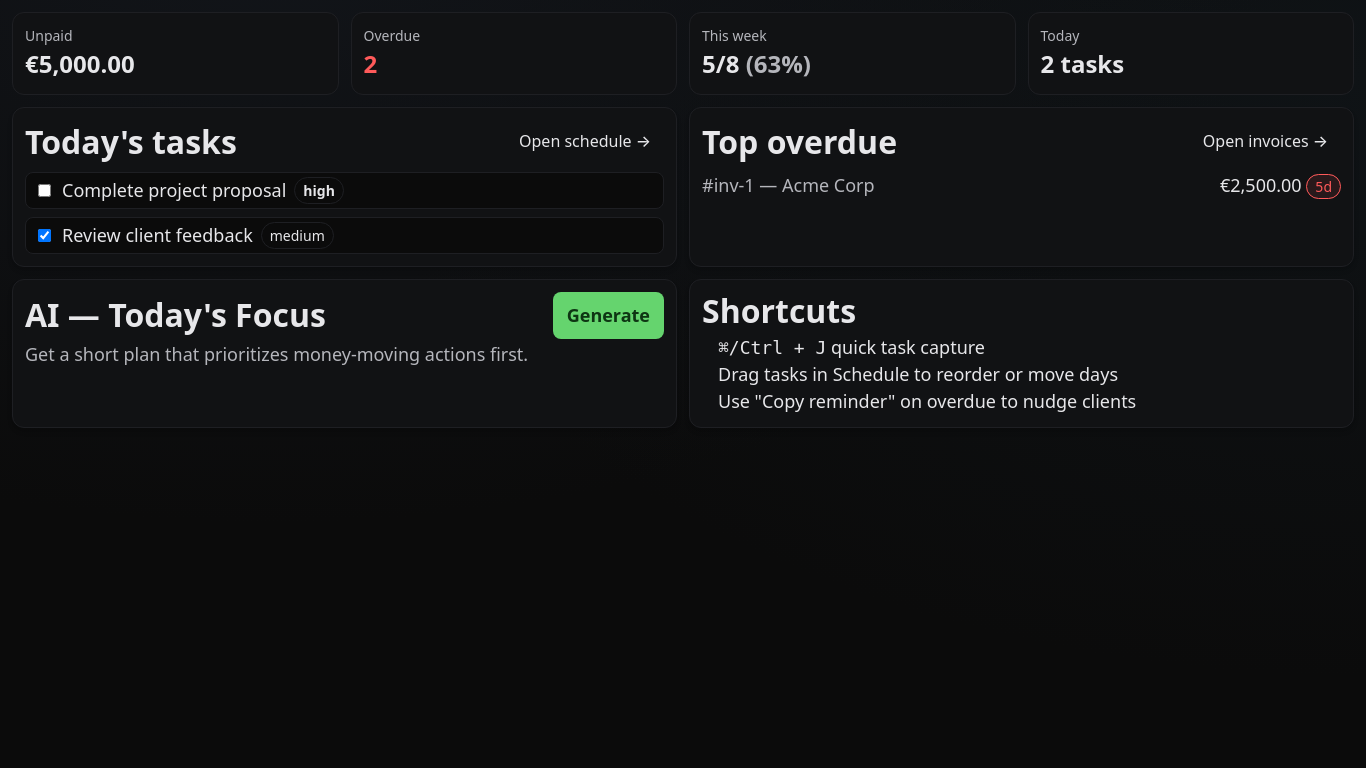
Test: FocusPage › handles clipboard errors gracefully
Generate plan first
Click the button "Generate".
click(608, 316)  # box [553,292,664,339]
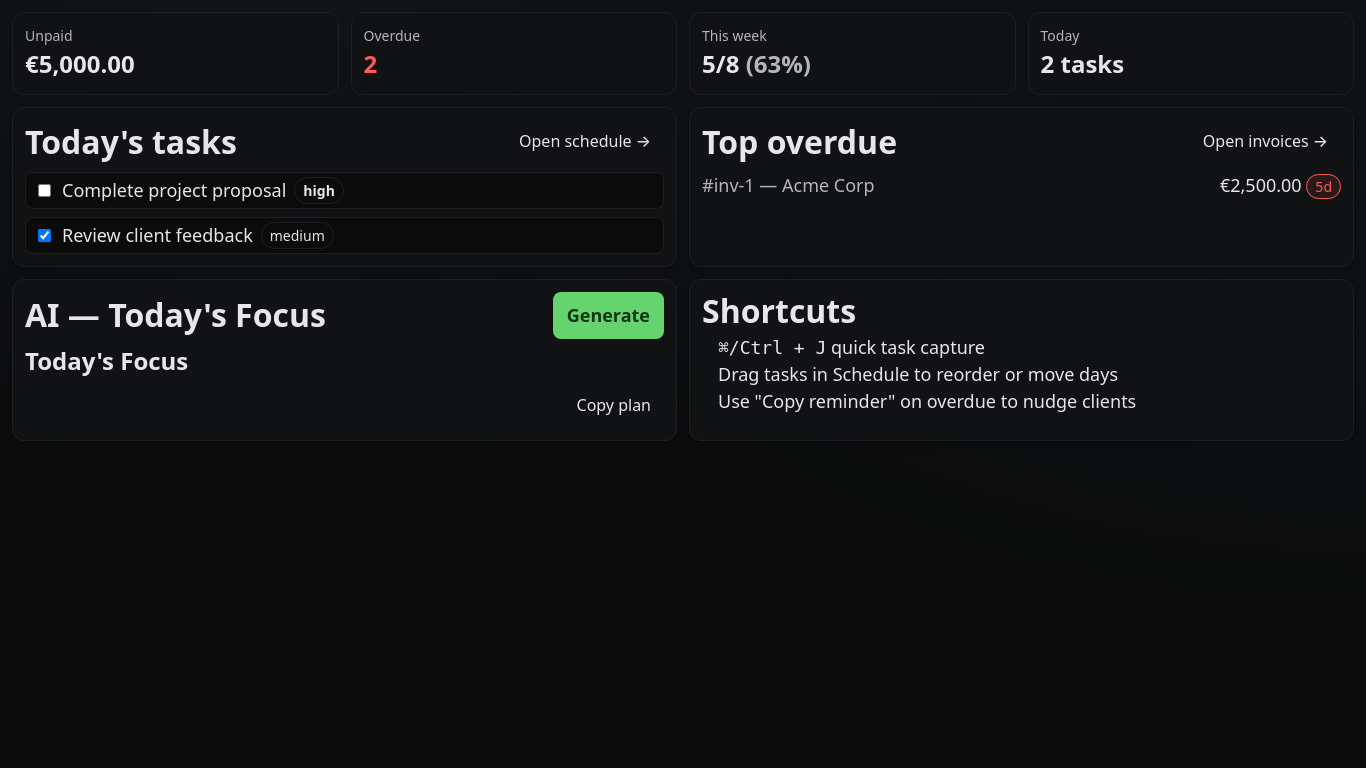
Expected: the heading "Today's Focus" is shown, [25,344,188,377]
Copy plan
Click the button "Copy plan".
click(614, 406)  # box [564,384,664,428]
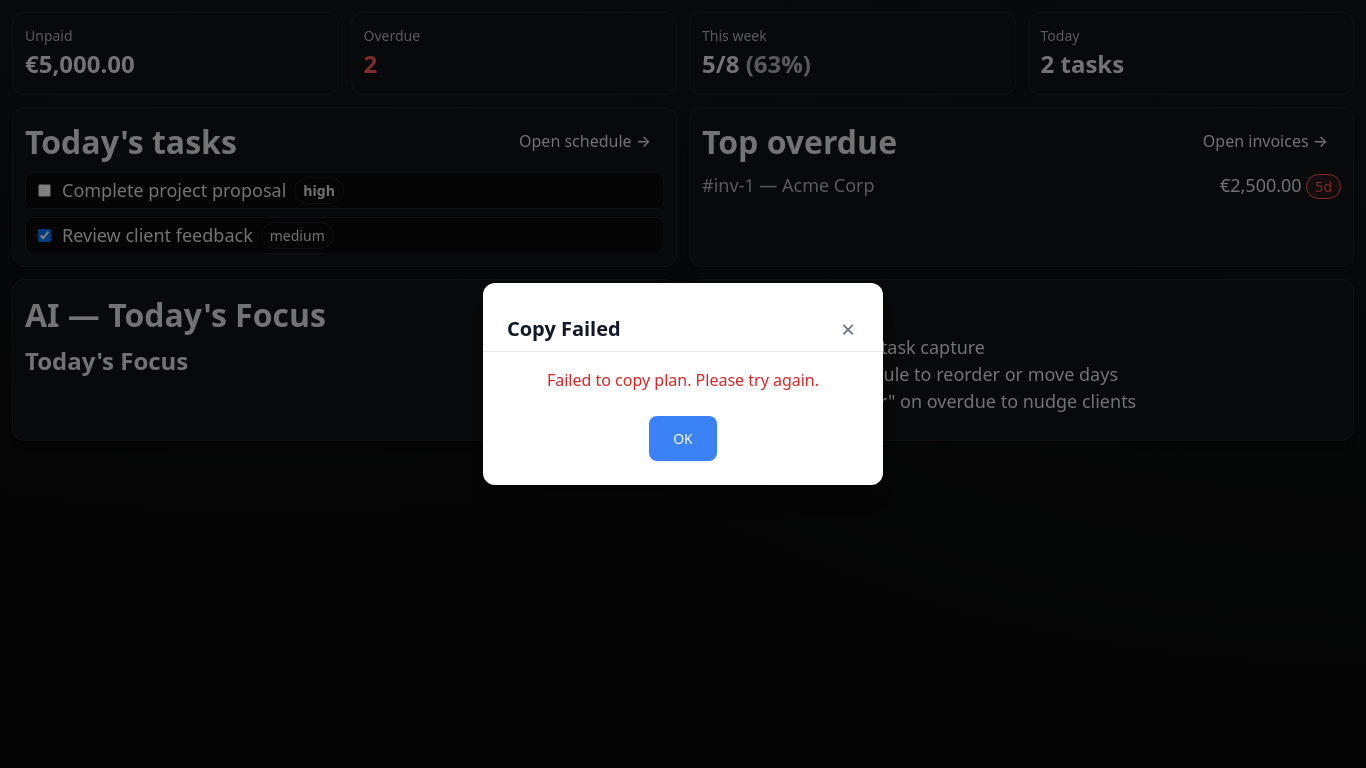
Expected: the text "Failed to copy plan. Please try again." is shown, [547,369,819,391]
